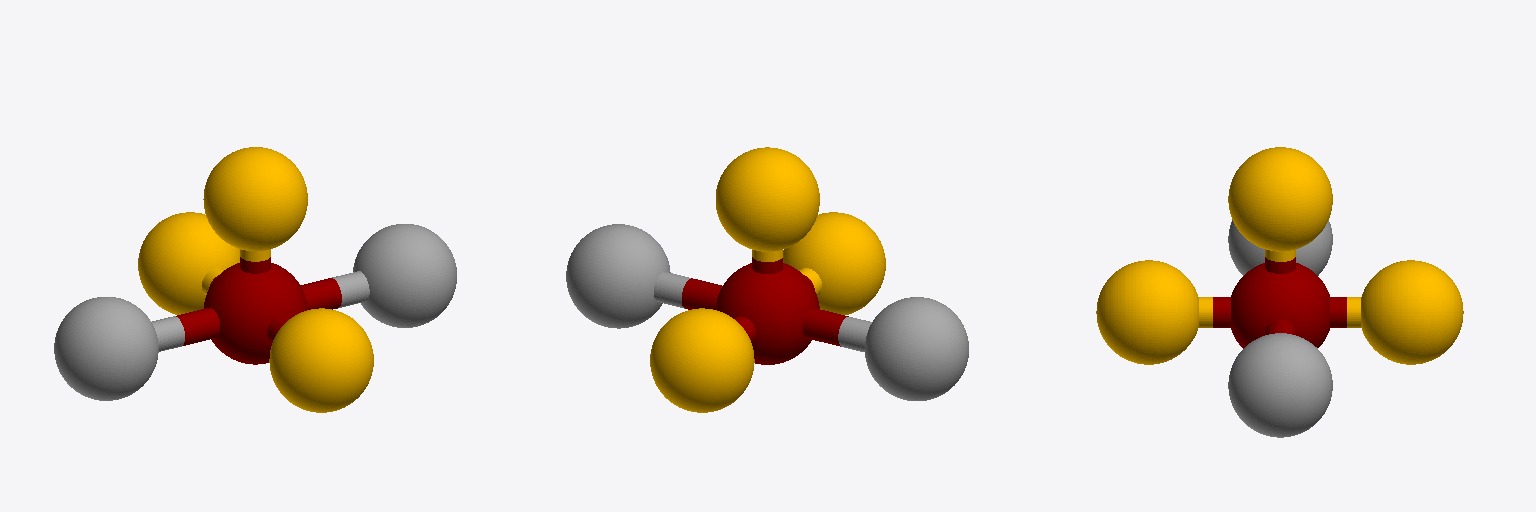
Rendered from XeF2.obj.
3 views of the same model, side by side, from view 1: azimuth 30°, elevation 25°; view 2: azimuth 150°, elevation 25°; view 3: azimuth 270°, elevation 25° (orthographic).
Parts seen in each view (by area): view 1: group_6_ID93, group_2_ID41, group_10_ID157, group_4_ID67, group_8_ID125, group_0_ID3, group_5.002_ID86, group_3.002_ID60, group_3_ID48, group_5_ID74; view 2: group_8_ID125, group_2_ID41, group_6_ID93, group_4_ID67, group_10_ID157, group_0_ID3, group_5.002_ID86, group_3.002_ID60, group_3_ID48, group_5_ID74; view 3: group_2_ID41, group_4_ID67, group_10_ID157, group_8_ID125, group_0_ID3, group_6_ID93, group_9.003_ID150, group_7.003_ID118.
Part boxes in pixels (x1,y1,x2,y2): group_6_ID93: (54,297,158,400); group_2_ID41: (203,147,307,250); group_10_ID157: (269,308,373,412); group_4_ID67: (353,224,456,327); group_8_ID125: (138,212,239,314); group_0_ID3: (204,263,307,364); group_5.002_ID86: (176,308,219,345); group_3.002_ID60: (300,278,341,309); group_3_ID48: (332,271,369,307); group_5_ID74: (152,316,184,351); group_8_ID125: (650,308,754,412); group_2_ID41: (716,147,819,251); group_6_ID93: (865,297,968,400); group_4_ID67: (566,224,670,328); group_10_ID157: (783,212,885,314); group_0_ID3: (716,263,819,364); group_5.002_ID86: (803,308,848,346); group_3.002_ID60: (682,278,722,309); group_3_ID48: (654,272,690,308); group_5_ID74: (838,317,871,351); group_2_ID41: (1228,147,1332,251); group_4_ID67: (1228,333,1332,437); group_10_ID157: (1096,260,1198,364); group_8_ID125: (1361,260,1463,364); group_0_ID3: (1231,263,1329,348); group_6_ID93: (1228,220,1332,275); group_9.003_ID150: (1213,297,1230,327); group_7.003_ID118: (1330,297,1346,327).
Size of the model in its own units: 8.6 by 4.39 by 7.03.